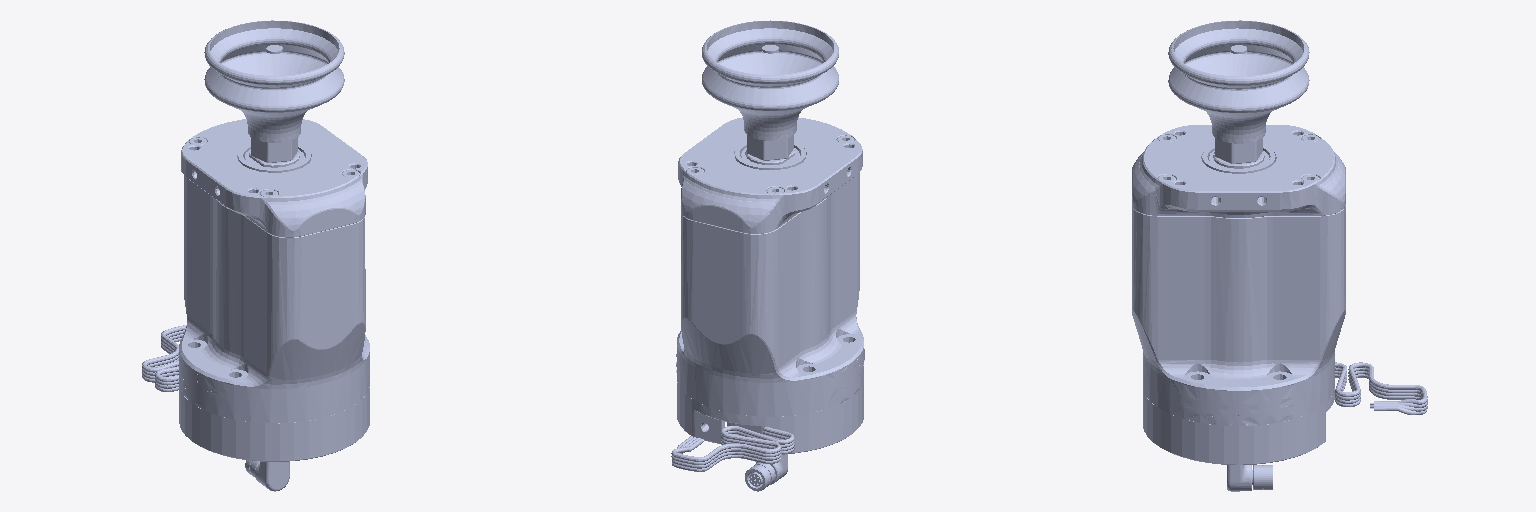
robot.urdf — EPick_assembly.SLDASM:
<?xml version="1.0" encoding="utf-8"?>
<!-- This URDF was automatically created by SolidWorks to URDF Exporter! Originally created by [author] ([email redacted]) 
     Commit Version: 1.5.1-0-g916b5db  Build Version: 1.5.7152.31018
     For more information, please see http://wiki.ros.org/sw_urdf_exporter -->
<robot
  name="EPick_assembly.SLDASM">
  <link
    name="base_link">
    <inertial>
      <origin
        xyz="-0.000727975444946002 0.001575104276913 0.089657834884511"
        rpy="0 0 0" />
      <mass
        value="3.33993572773651E-05" />
      <inertia
        ixx="9.15533073948056E-11"
        ixy="-1.05223941788354E-43"
        ixz="0"
        iyy="1.77540055243384E-10"
        iyz="1.40129846432482E-43"
        izz="9.15533073948057E-11" />
    </inertial>
    <visual>
      <origin
        xyz="0 0 0"
        rpy="0 0 0" />
      <geometry>
        <mesh
          filename="package://EPick_assembly.SLDASM/meshes/base_link.STL" />
      </geometry>
      <material
        name="">
        <color
          rgba="0.792156862745098 0.819607843137255 0.933333333333333 1" />
      </material>
    </visual>
    <collision>
      <origin
        xyz="0 0 0"
        rpy="0 0 0" />
      <geometry>
        <mesh
          filename="package://EPick_assembly.SLDASM/meshes/base_link.STL" />
      </geometry>
    </collision>
  </link>
  <link
    name="BaseVacuumMountingBaseLink">
    <inertial>
      <origin
        xyz="-0.00090297 -4.1082E-05 0.0012559"
        rpy="0 0 0" />
      <mass
        value="0.030631" />
      <inertia
        ixx="1.5039E-05"
        ixy="1.6411E-07"
        ixz="-4.6667E-08"
        iyy="1.5824E-05"
        iyz="-5.6752E-08"
        izz="2.9788E-05" />
    </inertial>
    <visual>
      <origin
        xyz="0 0 0"
        rpy="0 0 0" />
      <geometry>
        <mesh
          filename="package://EPick_assembly.SLDASM/meshes/BaseVacuumMountingBaseLink.STL" />
      </geometry>
      <material
        name="">
        <color
          rgba="0.79216 0.81961 0.93333 1" />
      </material>
    </visual>
    <collision>
      <origin
        xyz="0 0 0"
        rpy="0 0 0" />
      <geometry>
        <mesh
          filename="package://EPick_assembly.SLDASM/meshes/BaseVacuumMountingBaseLink.STL" />
      </geometry>
    </collision>
  </link>
  <joint
    name="VacuumMountingBase"
    type="fixed">
    <origin
      xyz="-0.00072798 -0.089658 0.0080751"
      rpy="0 0 0" />
    <parent
      link="base_link" />
    <child
      link="BaseVacuumMountingBaseLink" />
    <axis
      xyz="0 0 0" />
  </joint>
  <link
    name="BaseCableLink">
    <inertial>
      <origin
        xyz="-0.60385 0.0055101 0.00093212"
        rpy="0 0 0" />
      <mass
        value="0.0050756" />
      <inertia
        ixx="1.5197E-06"
        ixy="-3.9838E-08"
        ixz="1.4653E-07"
        iyy="1.3697E-06"
        iyz="9.5166E-08"
        izz="4.5707E-07" />
    </inertial>
    <visual>
      <origin
        xyz="0 0 0"
        rpy="0 0 0" />
      <geometry>
        <mesh
          filename="package://EPick_assembly.SLDASM/meshes/BaseCableLink.STL" />
      </geometry>
      <material
        name="">
        <color
          rgba="0.79216 0.81961 0.93333 1" />
      </material>
    </visual>
    <collision>
      <origin
        xyz="0 0 0"
        rpy="0 0 0" />
      <geometry>
        <mesh
          filename="package://EPick_assembly.SLDASM/meshes/BaseCableLink.STL" />
      </geometry>
    </collision>
  </link>
  <joint
    name="Cable"
    type="fixed">
    <origin
      xyz="-0.0013182 -0.068423 0.59986"
      rpy="1.5708 -1.5708 0" />
    <parent
      link="base_link" />
    <child
      link="BaseCableLink" />
    <axis
      xyz="0 0 0" />
  </joint>
  <link
    name="BaseBodyLink">
    <inertial>
      <origin
        xyz="-1.2733E-05 -0.044797 5.076E-08"
        rpy="0 0 0" />
      <mass
        value="0.37395" />
      <inertia
        ixx="0.00050773"
        ixy="2.051E-07"
        ixz="4.3E-10"
        iyy="0.00025472"
        iyz="9.3948E-10"
        izz="0.00040813" />
    </inertial>
    <visual>
      <origin
        xyz="0 0 0"
        rpy="0 0 0" />
      <geometry>
        <mesh
          filename="package://EPick_assembly.SLDASM/meshes/BaseBodyLink.STL" />
      </geometry>
      <material
        name="">
        <color
          rgba="0.79216 0.81961 0.93333 1" />
      </material>
    </visual>
    <collision>
      <origin
        xyz="0 0 0"
        rpy="0 0 0" />
      <geometry>
        <mesh
          filename="package://EPick_assembly.SLDASM/meshes/BaseBodyLink.STL" />
      </geometry>
    </collision>
  </link>
  <joint
    name="Body"
    type="fixed">
    <origin
      xyz="-0.00072798 -0.089658 0.10988"
      rpy="1.5708 0 -3.1416" />
    <parent
      link="base_link" />
    <child
      link="BaseBodyLink" />
    <axis
      xyz="0 0 0" />
  </joint>
  <link
    name="BaseVacuumCupLink">
    <inertial>
      <origin
        xyz="4.0246E-16 -0.028822 -3.8858E-16"
        rpy="0 0 0" />
      <mass
        value="0.0097205" />
      <inertia
        ixx="3.985E-06"
        ixy="2.9476E-21"
        ixz="2.5946E-11"
        iyy="3.2182E-06"
        iyz="2.6316E-20"
        izz="3.9853E-06" />
    </inertial>
    <visual>
      <origin
        xyz="0 0 0"
        rpy="0 0 0" />
      <geometry>
        <mesh
          filename="package://EPick_assembly.SLDASM/meshes/BaseVacuumCupLink.STL" />
      </geometry>
      <material
        name="">
        <color
          rgba="0.79216 0.81961 0.93333 1" />
      </material>
    </visual>
    <collision>
      <origin
        xyz="0 0 0"
        rpy="0 0 0" />
      <geometry>
        <mesh
          filename="package://EPick_assembly.SLDASM/meshes/BaseVacuumCupLink.STL" />
      </geometry>
    </collision>
  </link>
  <joint
    name="VacuumCup"
    type="continuous">
    <origin
      xyz="-0.00072798 -0.089658 0.10988"
      rpy="-1.5708 0 -0.79849" />
    <parent
      link="base_link" />
    <child
      link="BaseVacuumCupLink" />
    <axis
      xyz="0 1 0" />
  </joint>
  <link
    name="BasePickPointLink">
    <inertial>
      <origin
        xyz="0 -0.00115 2.7756E-17"
        rpy="0 0 0" />
      <mass
        value="3.3399E-05" />
      <inertia
        ixx="9.1553E-11"
        ixy="1.7286E-28"
        ixz="6.4623E-27"
        iyy="1.7754E-10"
        iyz="-4.9172E-26"
        izz="9.1553E-11" />
    </inertial>
    <visual>
      <origin
        xyz="0 0 0"
        rpy="0 0 0" />
      <geometry>
        <mesh
          filename="package://EPick_assembly.SLDASM/meshes/BasePickPointLink.STL" />
      </geometry>
      <material
        name="">
        <color
          rgba="0.79216 0.81961 0.93333 1" />
      </material>
    </visual>
    <collision>
      <origin
        xyz="0 0 0"
        rpy="0 0 0" />
      <geometry>
        <mesh
          filename="package://EPick_assembly.SLDASM/meshes/BasePickPointLink.STL" />
      </geometry>
    </collision>
  </link>
  <joint
    name="PickPoint"
    type="continuous">
    <origin
      xyz="-0.00072798 -0.089658 0.16118"
      rpy="-1.5708 0 2.7633" />
    <parent
      link="base_link" />
    <child
      link="BasePickPointLink" />
    <axis
      xyz="0 1 0" />
  </joint>
</robot>

--- What the picture shows (computed from the rendered views, not written in the file) ---
The picture shows the robot from 3 angles, left to right: view 1: azimuth 30°, elevation 25°; view 2: azimuth 150°, elevation 25°; view 3: azimuth 270°, elevation 25°; orthographic projection.
Robot: EPick_assembly.SLDASM — 6 links, 5 joints (2 continuous, 3 fixed); root link base_link; default pose: all joints at 0.
Visible links, largest first — view 1: BaseBodyLink, BaseVacuumCupLink, BaseVacuumMountingBaseLink, BaseCableLink; view 2: BaseBodyLink, BaseVacuumCupLink, BaseVacuumMountingBaseLink, BaseCableLink; view 3: BaseBodyLink, BaseVacuumCupLink, BaseVacuumMountingBaseLink, BaseCableLink.
Boxes of the visible links, bbox=[...] form: BaseBodyLink: bbox=[179, 119, 369, 422]; BaseVacuumCupLink: bbox=[204, 20, 344, 162]; BaseVacuumMountingBaseLink: bbox=[179, 387, 369, 461]; BaseCableLink: bbox=[142, 325, 289, 491]; BaseBodyLink: bbox=[676, 117, 864, 416]; BaseVacuumCupLink: bbox=[702, 20, 838, 160]; BaseVacuumMountingBaseLink: bbox=[677, 382, 863, 453]; BaseCableLink: bbox=[671, 426, 794, 491]; BaseBodyLink: bbox=[1132, 125, 1345, 425]; BaseVacuumCupLink: bbox=[1168, 20, 1309, 163]; BaseVacuumMountingBaseLink: bbox=[1143, 389, 1334, 464]; BaseCableLink: bbox=[1227, 362, 1427, 491].
Size in the robot's own frame: 0.075 by 0.115 by 0.19 metres.
Meshes: 6 distinct files referenced, 6 mesh visuals loaded (6 binary STL).